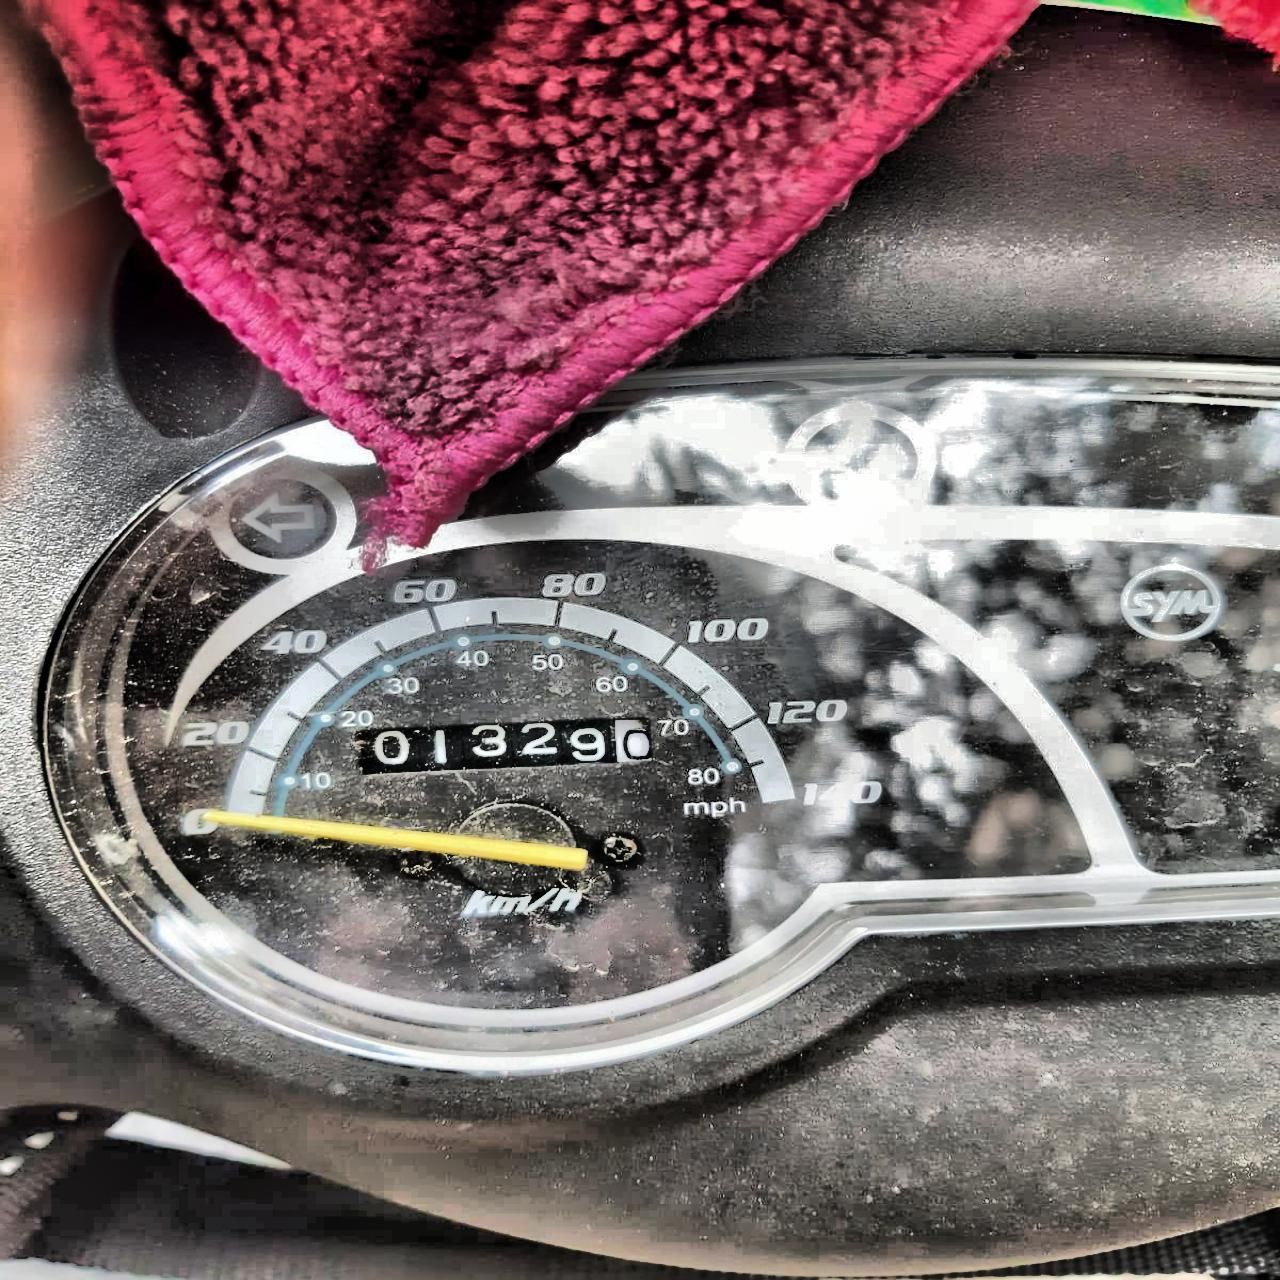0: (373, 728, 410, 767), (619, 726, 656, 762)
1: (427, 724, 454, 765)
2: (516, 722, 559, 757)
3: (468, 721, 505, 760)
9: (566, 723, 608, 763)
odometer: (356, 720, 661, 771)
